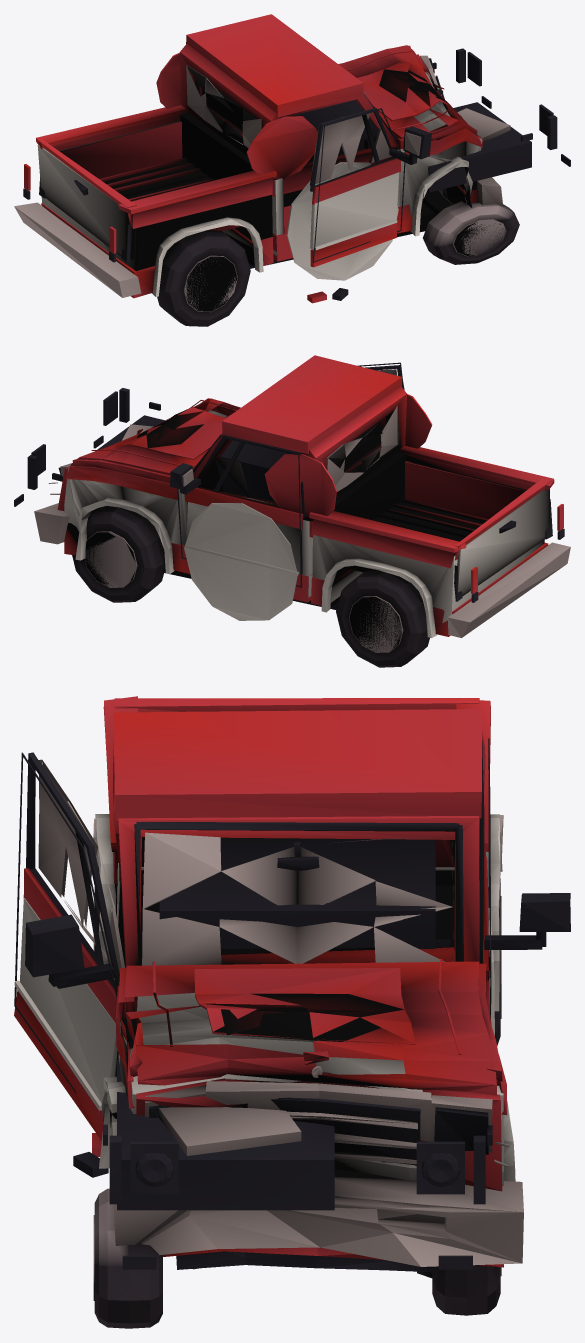
The model's file is model.wrecked.lod1.glb.
The picture shows the model from 3 angles, top to bottom: view 1: azimuth 30°, elevation 25°; view 2: azimuth 150°, elevation 25°; view 3: azimuth 270°, elevation 25°; orthographic projection. The views are drawn at different scales.
Visible parts, largest first — view 1: body_pal_survivorRed, body_pal_picketWhite, body_pal_uiDark, body_pal_sidewalk, wheelRL_pal_sidewalk, wheelFL_pal_sidewalk; view 2: body_pal_survivorRed, body_pal_picketWhite, body_pal_uiDark, body_pal_sidewalk, wheelRR_pal_sidewalk, wheelFR_pal_sidewalk; view 3: body_pal_survivorRed, body_pal_uiDark, body_pal_sidewalk, body_pal_picketWhite, wheelFL_pal_sidewalk, wheelFR_pal_sidewalk.
Part boxes in pixels (left/top/right/bottom): body_pal_survivorRed: left=24, top=14, right=483, bottom=303; body_pal_picketWhite: left=37, top=72, right=482, bottom=296; body_pal_uiDark: left=23, top=48, right=570, bottom=300; body_pal_sidewalk: left=14, top=55, right=510, bottom=297; wheelRL_pal_sidewalk: left=157, top=230, right=250, bottom=326; wheelFL_pal_sidewalk: left=423, top=201, right=519, bottom=264; body_pal_survivorRed: left=57, top=355, right=563, bottom=636; body_pal_picketWhite: left=64, top=410, right=549, bottom=638; body_pal_uiDark: left=14, top=362, right=564, bottom=609; body_pal_sidewalk: left=34, top=369, right=570, bottom=637; wheelRR_pal_sidewalk: left=336, top=570, right=429, bottom=667; wheelFR_pal_sidewalk: left=72, top=506, right=165, bottom=602; body_pal_survivorRed: left=14, top=696, right=507, bottom=1267; body_pal_uiDark: left=14, top=738, right=570, bottom=1278; body_pal_sidewalk: left=38, top=759, right=523, bottom=1266; body_pal_picketWhite: left=14, top=814, right=515, bottom=1185; wheelFL_pal_sidewalk: left=93, top=1188, right=162, bottom=1328; wheelFR_pal_sidewalk: left=432, top=1265, right=501, bottom=1315.
Size of the model in its own units: 4.97 by 2.14 by 2.61.
